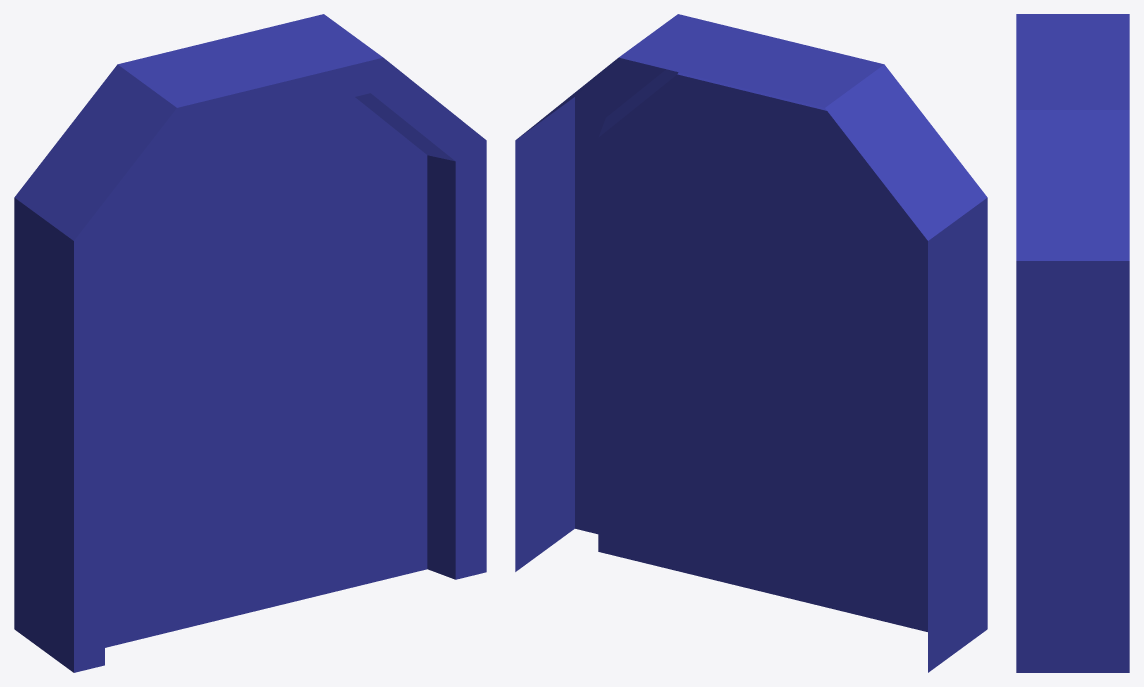
Rendered from exitDoorA.FBX.
3 views of the same model, side by side, from view 1: azimuth 30°, elevation 25°; view 2: azimuth 150°, elevation 25°; view 3: azimuth 270°, elevation 25° (orthographic). The views are drawn at different scales.
Parts seen in each view (by area): view 1: exitDoorA; view 2: exitDoorA; view 3: exitDoorA.
Part boxes in pixels (x1=…): exitDoorA: x1=14, y1=14, x2=486, y2=672; exitDoorA: x1=515, y1=14, x2=987, y2=672; exitDoorA: x1=1016, y1=14, x2=1129, y2=672.
Bounding box in the file's own units: 0.4 × 0.5 × 0.1.
